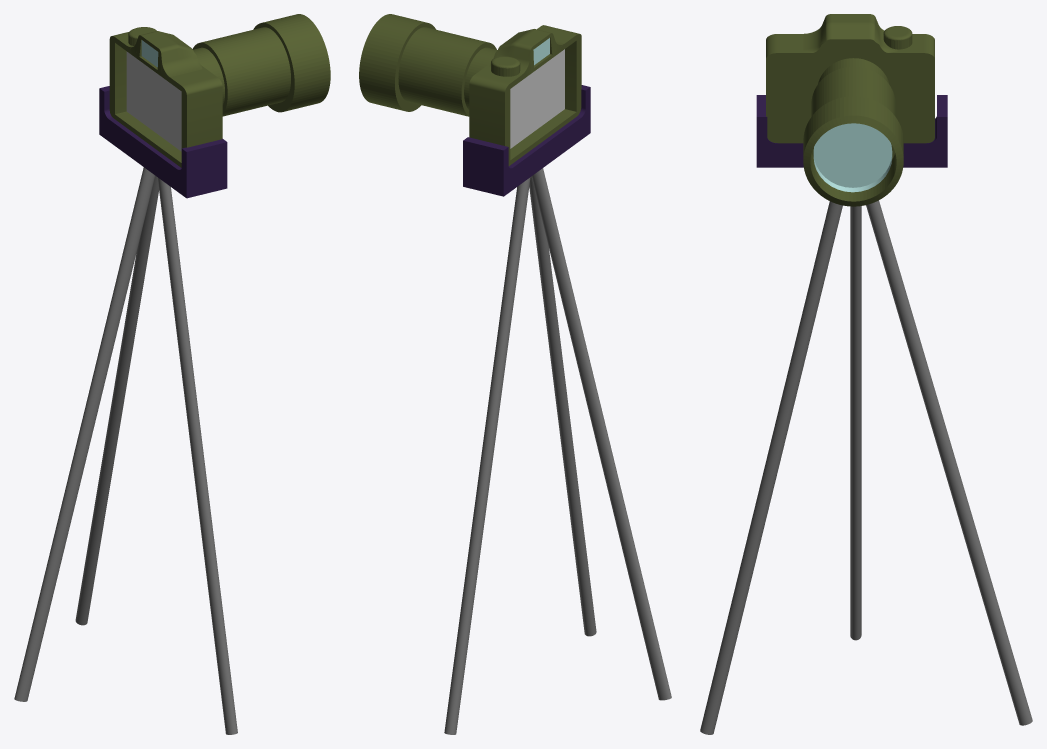
The model's file is Camera01.glb.
3 views of the same model, side by side, from view 1: azimuth 30°, elevation 25°; view 2: azimuth 150°, elevation 25°; view 3: azimuth 270°, elevation 25° (orthographic). The views are drawn at different scales.
Visible parts, largest first — view 1: Cube, Cylinder013, Cylinder014, Cylinder015, Cylinder005, Cube002, Cylinder006, Cube003, Cylinder; view 2: Cylinder013, Cube, Cylinder015, Cylinder014, Cylinder005, Cube002, Cylinder006, Cube003, Cylinder, Cylinder008; view 3: Cube, Cylinder014, Cylinder015, Cylinder013, Cylinder006, Cylinder009, Cube002, Cylinder005, Cylinder008, Cylinder.
Boxes of the visible parts, bbox=[...] form: Cube: bbox=[109, 31, 222, 167]; Cylinder013: bbox=[14, 167, 155, 701]; Cylinder014: bbox=[157, 177, 237, 734]; Cylinder015: bbox=[75, 176, 158, 625]; Cylinder005: bbox=[192, 27, 290, 116]; Cube002: bbox=[99, 86, 227, 198]; Cylinder006: bbox=[253, 14, 330, 112]; Cube003: bbox=[126, 51, 181, 151]; Cylinder: bbox=[193, 47, 224, 105]; Cylinder013: bbox=[531, 168, 671, 700]; Cube: bbox=[469, 25, 581, 165]; Cylinder015: bbox=[444, 177, 530, 734]; Cylinder014: bbox=[529, 176, 596, 636]; Cylinder005: bbox=[398, 27, 496, 116]; Cube002: bbox=[463, 85, 590, 196]; Cylinder006: bbox=[359, 14, 435, 111]; Cube003: bbox=[510, 49, 564, 148]; Cylinder: bbox=[464, 47, 497, 109]; Cylinder008: bbox=[491, 56, 520, 76]; Cube: bbox=[766, 14, 934, 143]; Cylinder014: bbox=[700, 201, 842, 734]; Cylinder015: bbox=[866, 200, 1032, 725]; Cylinder013: bbox=[850, 206, 861, 640]; Cylinder006: bbox=[803, 96, 903, 206]; Cylinder009: bbox=[813, 123, 892, 192]; Cube002: bbox=[756, 95, 947, 167]; Cylinder005: bbox=[811, 66, 895, 155]; Cylinder008: bbox=[883, 26, 912, 49]; Cylinder: bbox=[818, 58, 889, 84].
Bounding box in the file's own units: 4.41 × 9.27 × 3.93.
